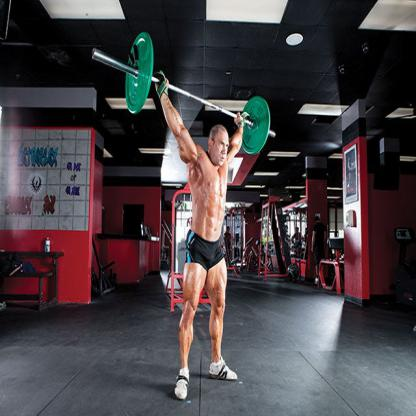Barbell: (120, 28, 157, 117)
